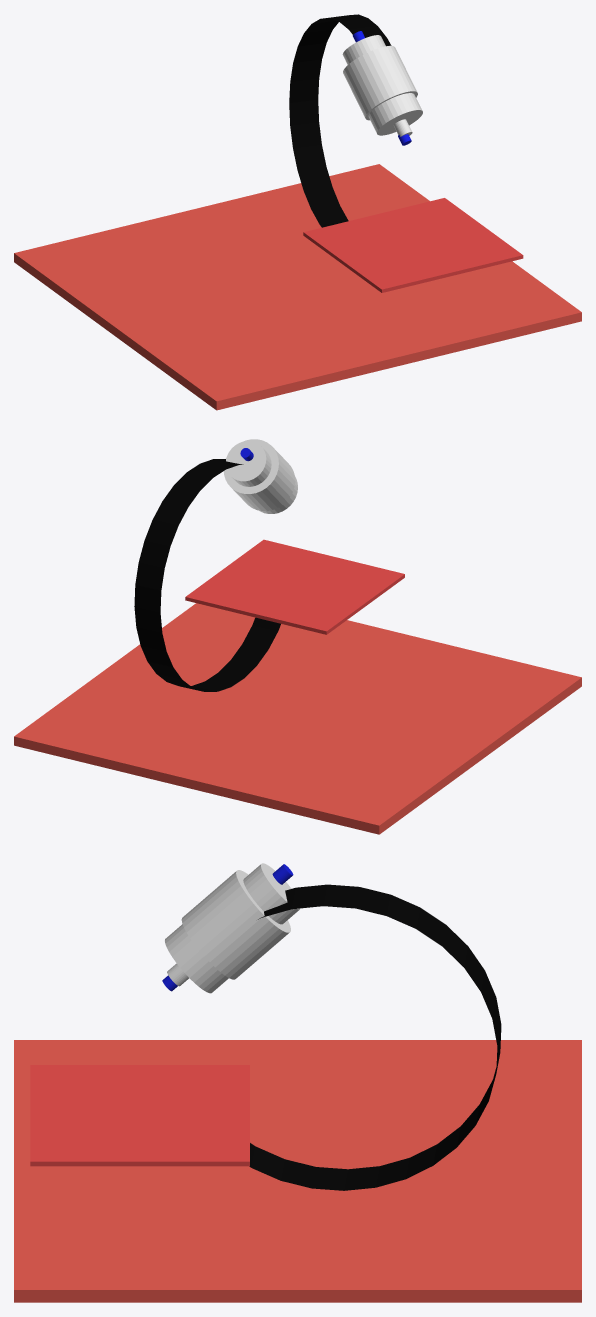
The model's file is microscope1final 1.fbx.
3 renders of one model, top to bottom at view 1: azimuth 30°, elevation 25°; view 2: azimuth 150°, elevation 25°; view 3: azimuth 270°, elevation 25°, orthographic. The views are drawn at different scales.
Parts seen in each view (by area): view 1: Cube, Cube.001, Cylinder, Cylinder.001; view 2: Cube, Cube.001, Cylinder, Cylinder.001; view 3: Cube, Cube.001, Cylinder, Cylinder.001.
Part boxes in pixels (bbox=[...]): Cube: bbox=[14, 164, 581, 410]; Cube.001: bbox=[303, 198, 523, 292]; Cylinder: bbox=[289, 14, 391, 227]; Cylinder.001: bbox=[342, 35, 422, 136]; Cube: bbox=[14, 603, 581, 834]; Cube.001: bbox=[185, 539, 404, 634]; Cylinder: bbox=[134, 459, 280, 691]; Cylinder.001: bbox=[223, 439, 297, 513]; Cube: bbox=[14, 1040, 581, 1302]; Cube.001: bbox=[30, 1065, 249, 1166]; Cylinder: bbox=[249, 884, 501, 1190]; Cylinder.001: bbox=[165, 863, 300, 993].
Bounding box in the file's own units: 737 × 483 × 708.
